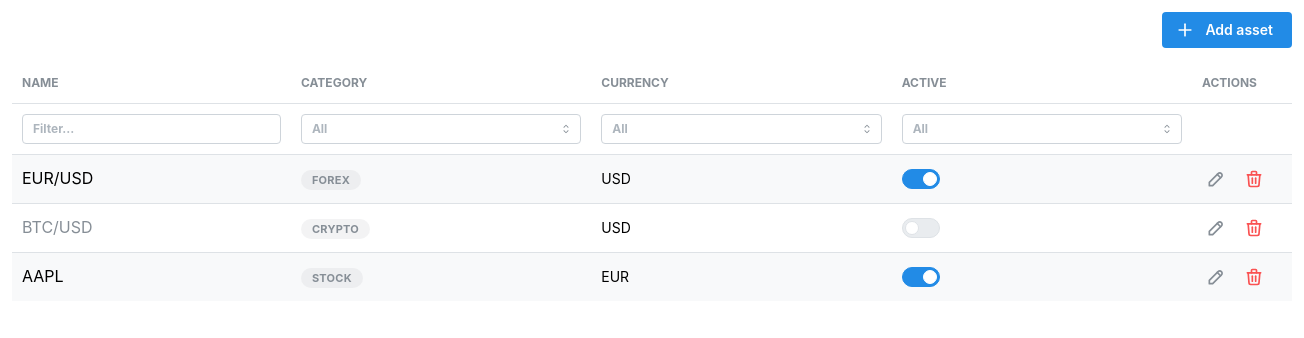
Test: AssetsTab › column filters › filters by category, showing only matching rows
The image size is (1304, 338).
Check: the text "EUR/USD" is shown, box x1=22 y1=168 x2=93 y2=188
Click the field named "Category". click: (441,129)
box: x1=301 y1=114 x2=581 y2=144
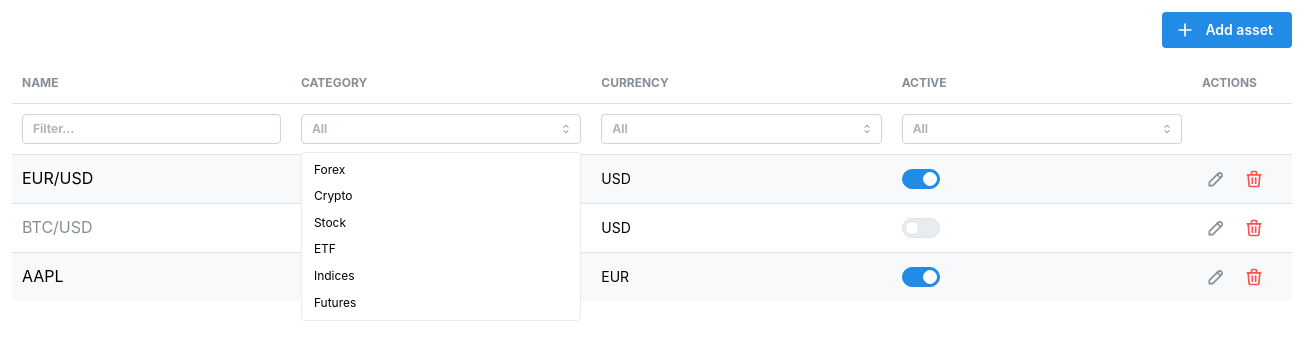
Click the option "Stock". click: (330,222)
box: x1=314 y1=215 x2=346 y2=230
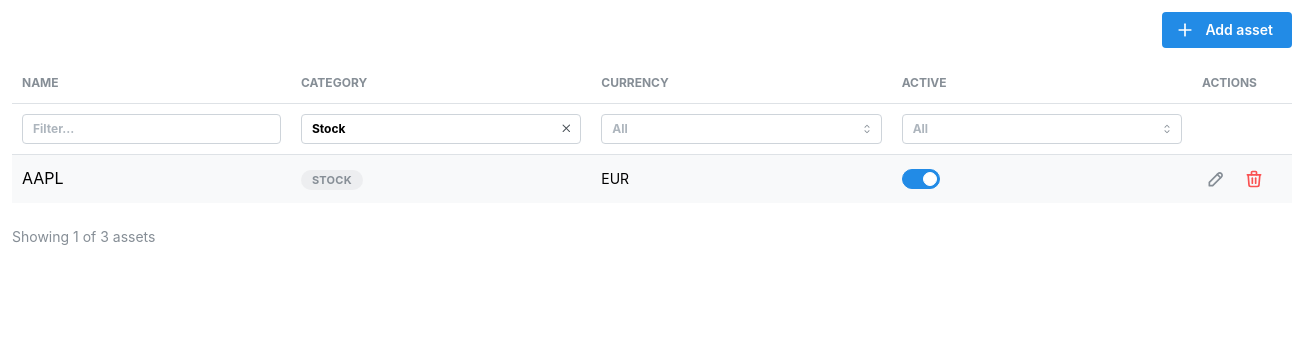
Check: the text "AAPL" is shown, box x1=22 y1=168 x2=64 y2=188
Check: the text "EUR/USD" is gone
